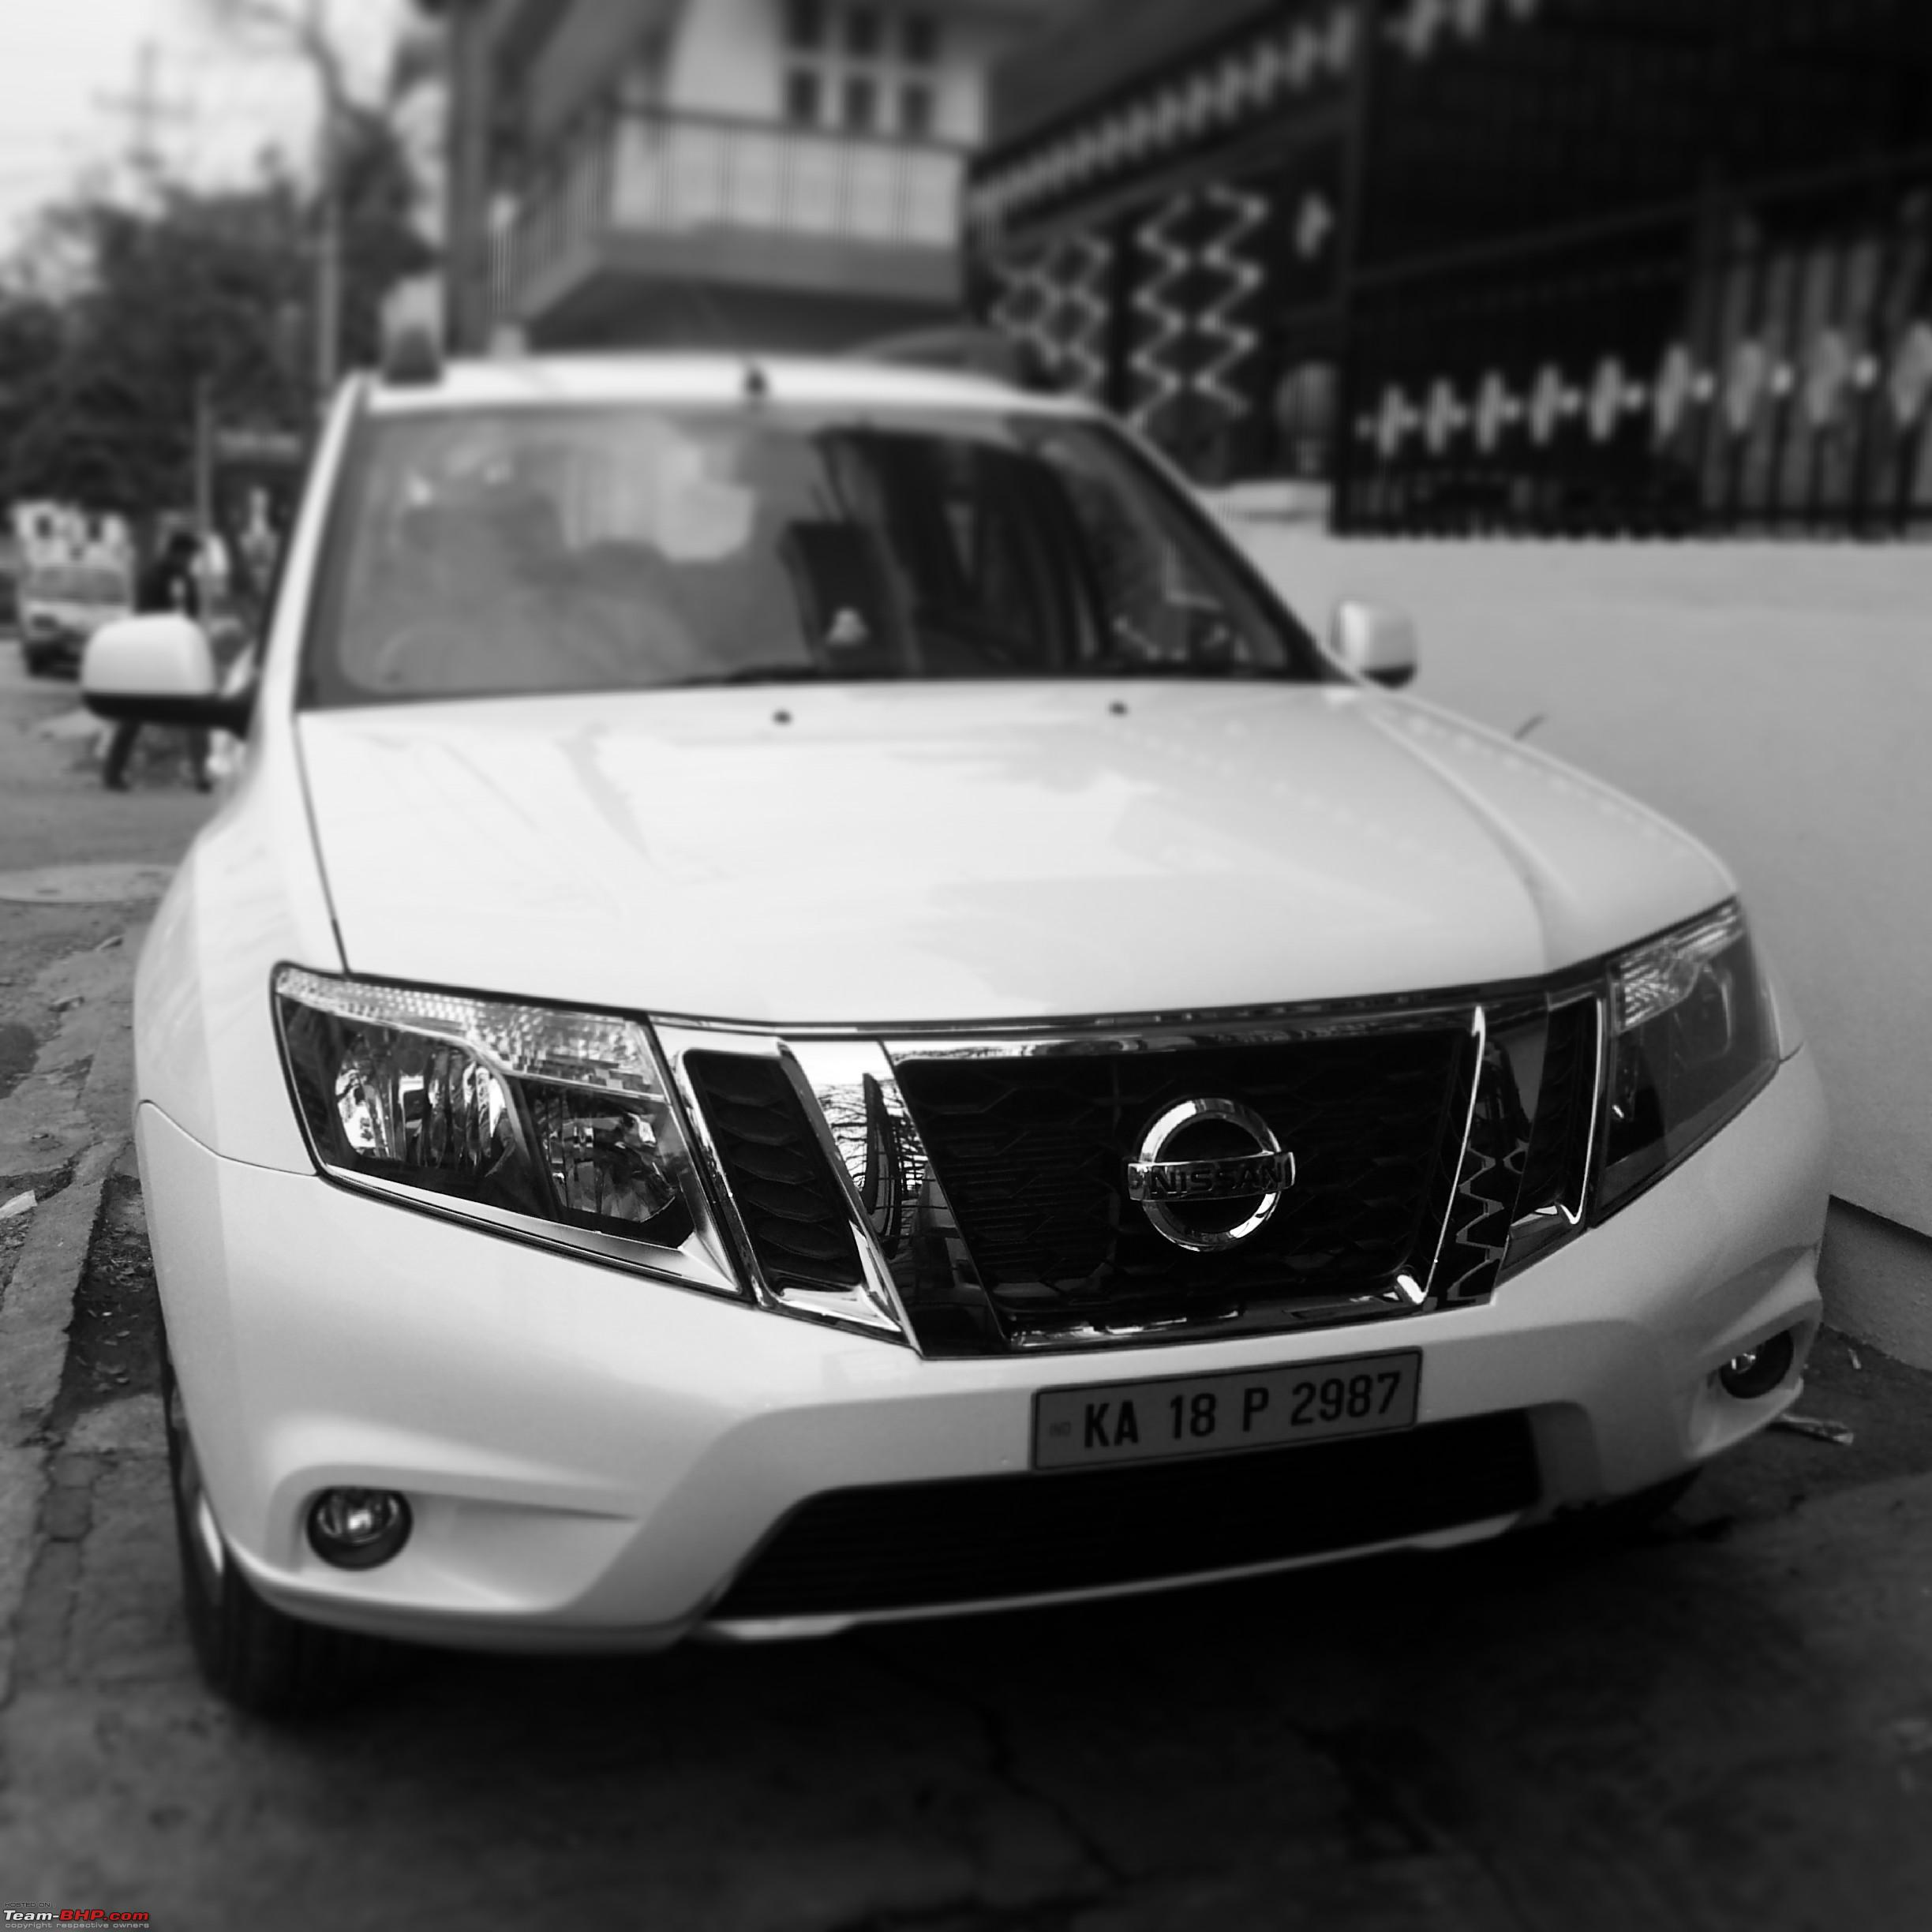number_plate: (994, 1339, 1472, 1480)
